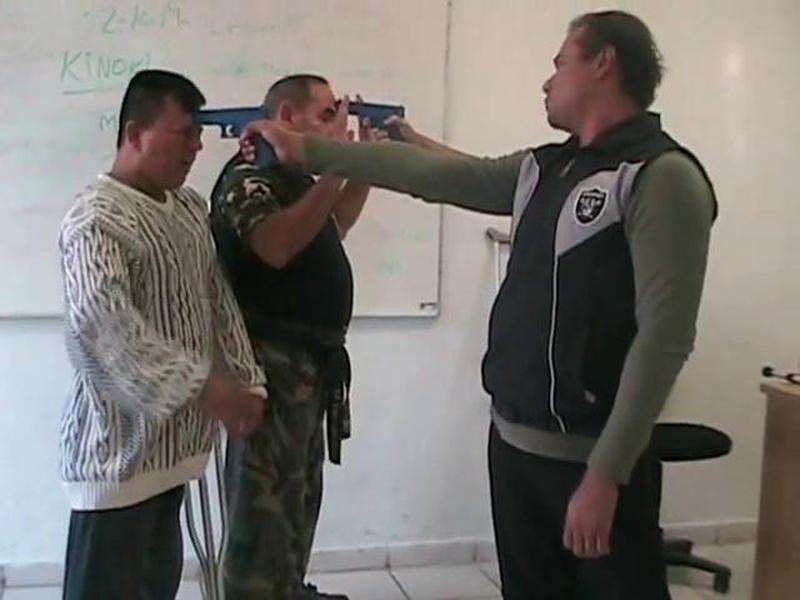Pistola: (183, 97, 284, 165), (329, 95, 414, 154)
